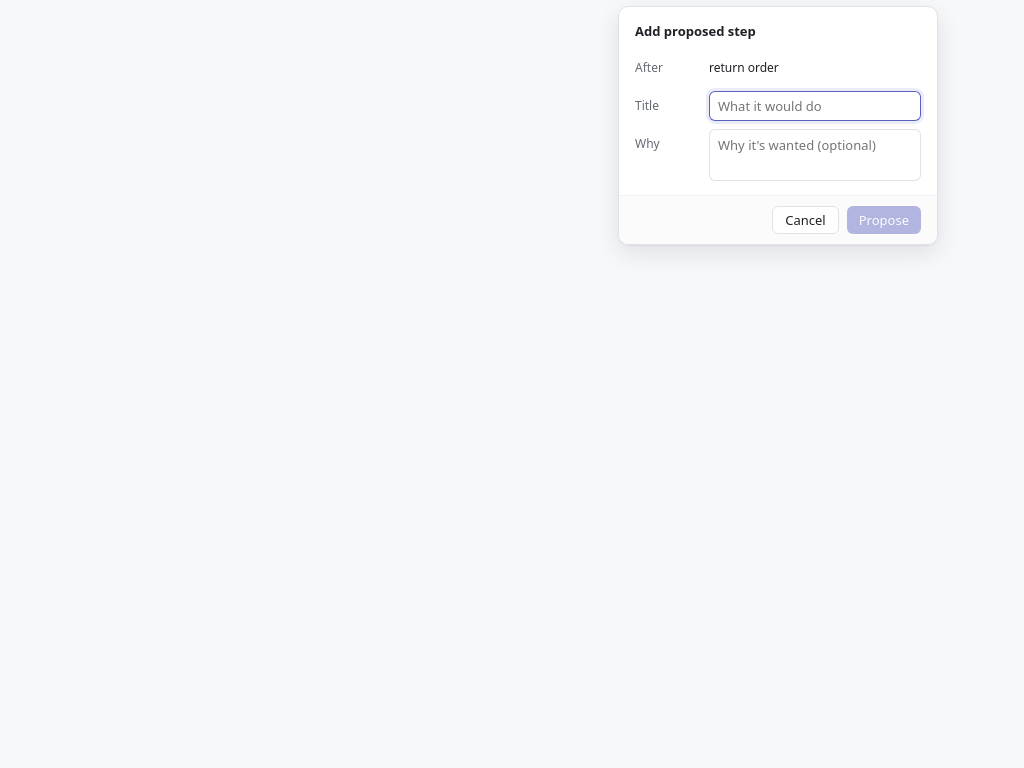
Test: Add proposed step… › shows what the board refuses
Type "Retry" into the field labelled "Title" at (815, 106), box [709, 91, 921, 121]
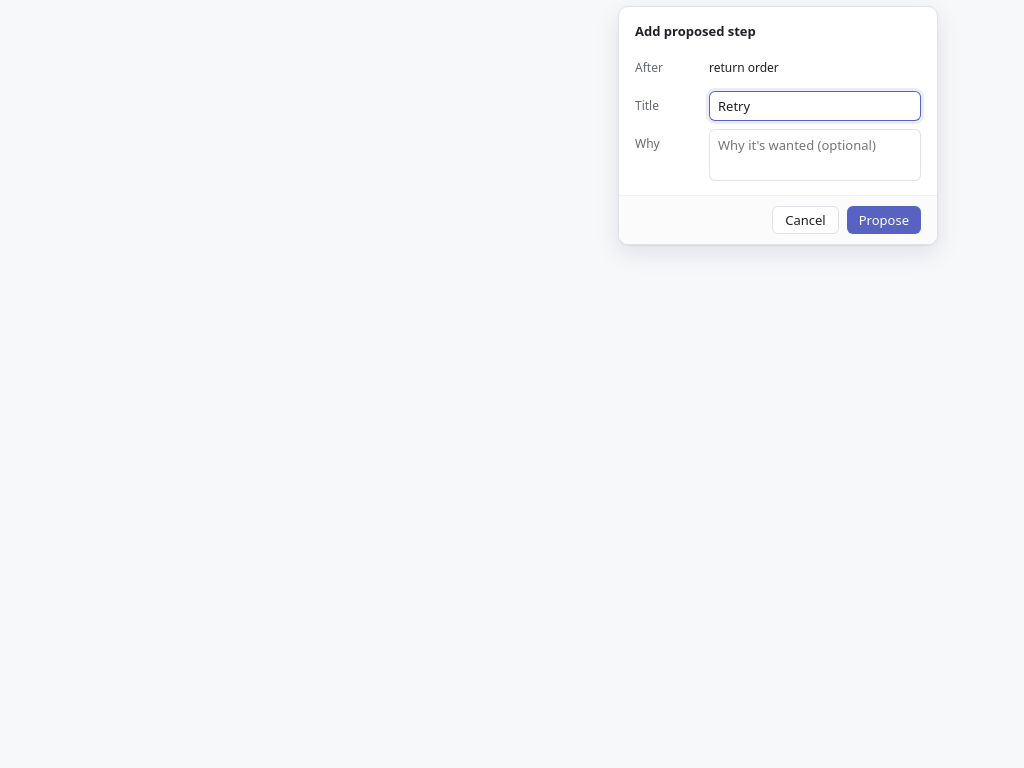
expect the button "Propose" is enabled: met
Click the button "Propose" at (884, 220), box [847, 206, 921, 234]
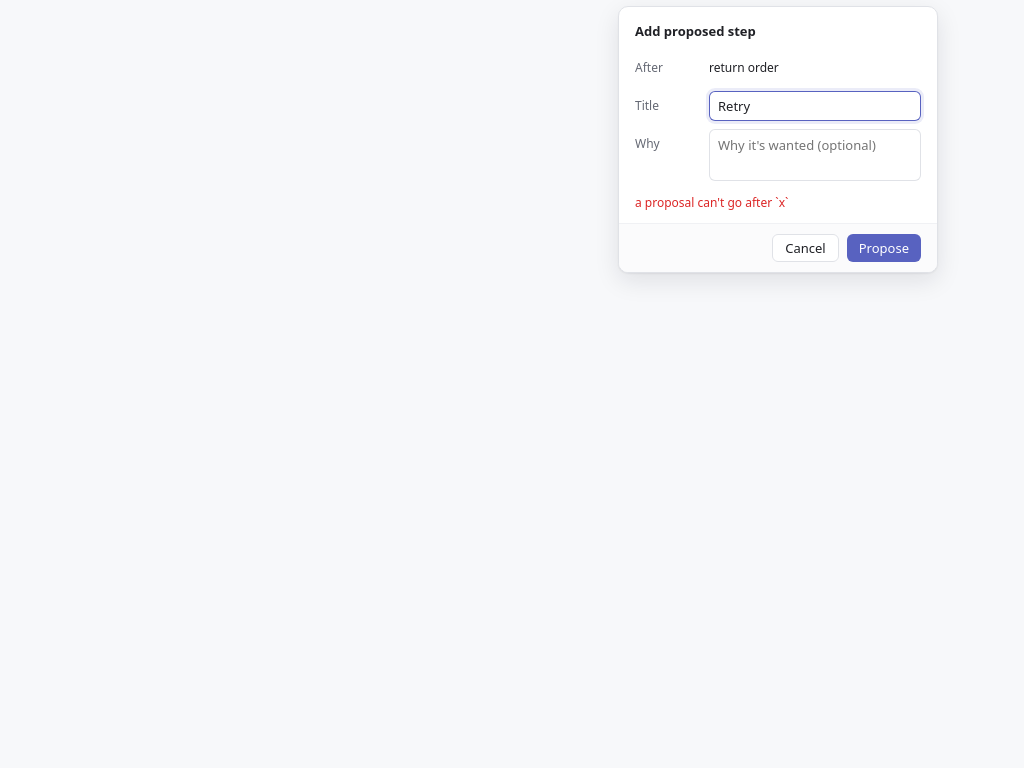
expect the text "a proposal can't go after `x`" is shown: met, box [635, 194, 788, 211]
